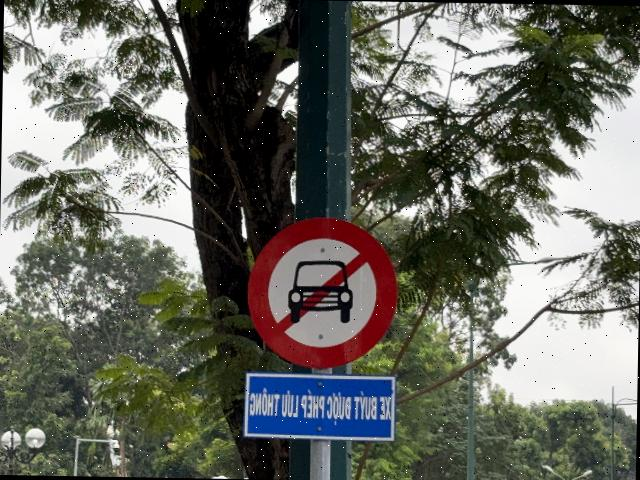cam-o-to: (245, 216, 399, 370)
